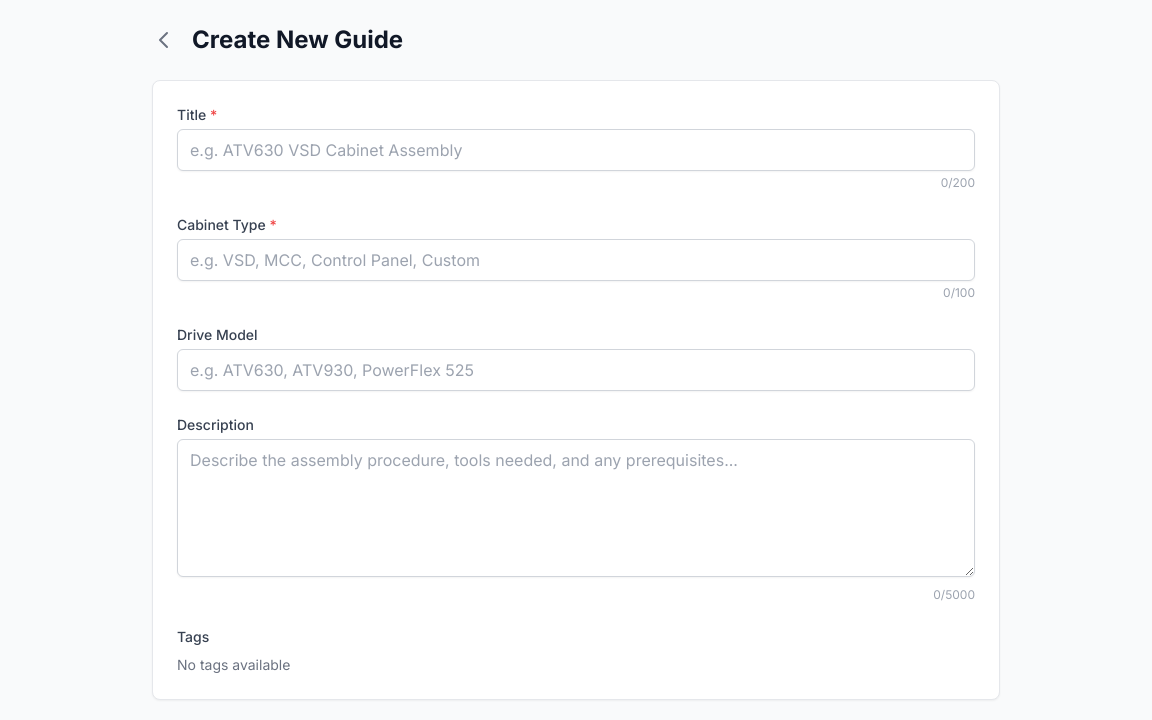
Test: GuideEditPage › validation › shows error when cabinet type is empty on submit
Type "Valid Title" into the field with id "title" at point(576, 150), box [177,129,975,171]
(page scrolled)
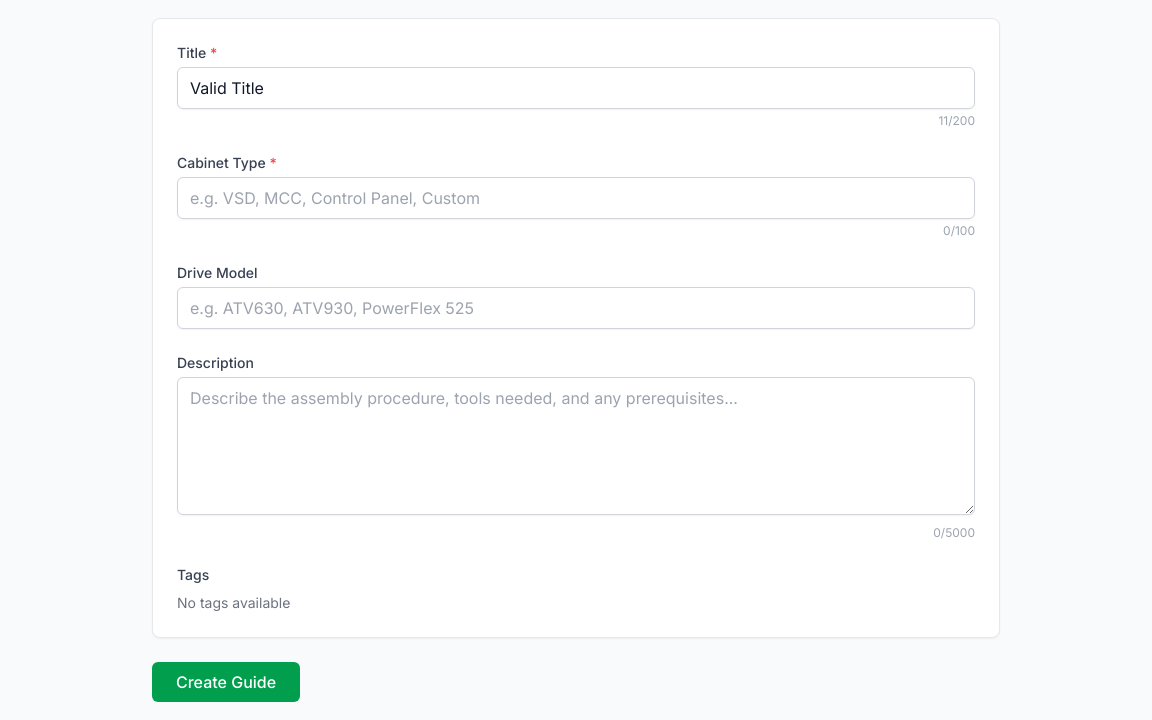
Submit the form
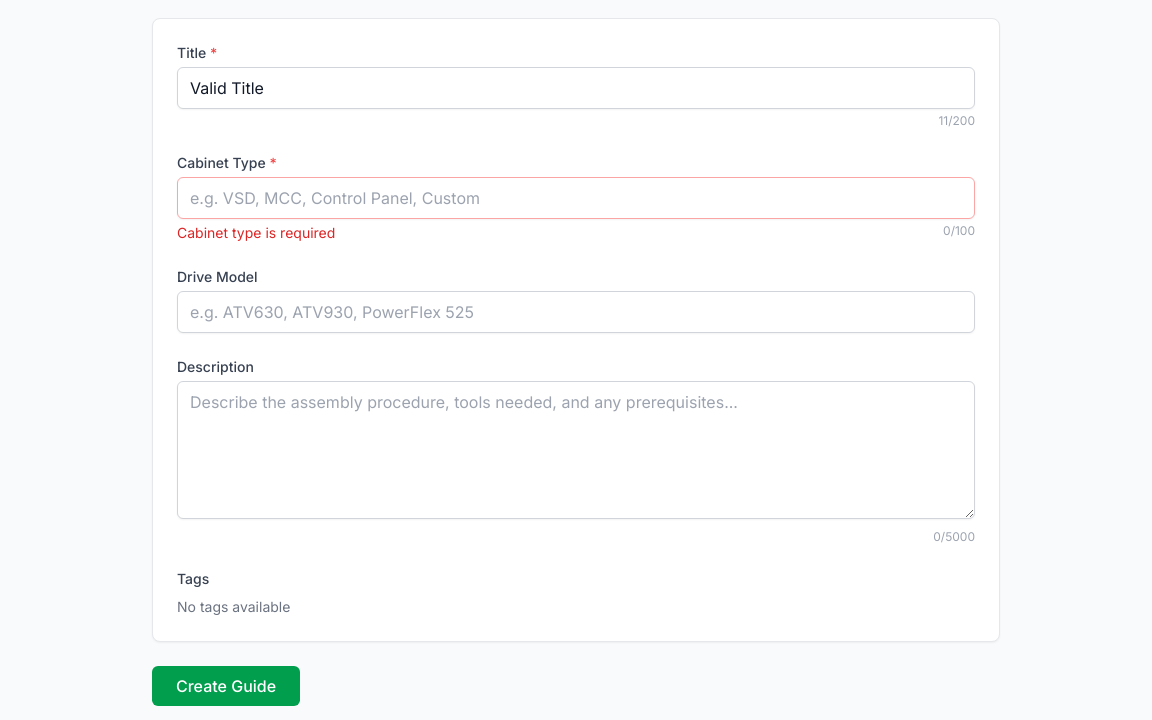
Expected: the text "Cabinet type is required" is shown, [177,223,335,243]
